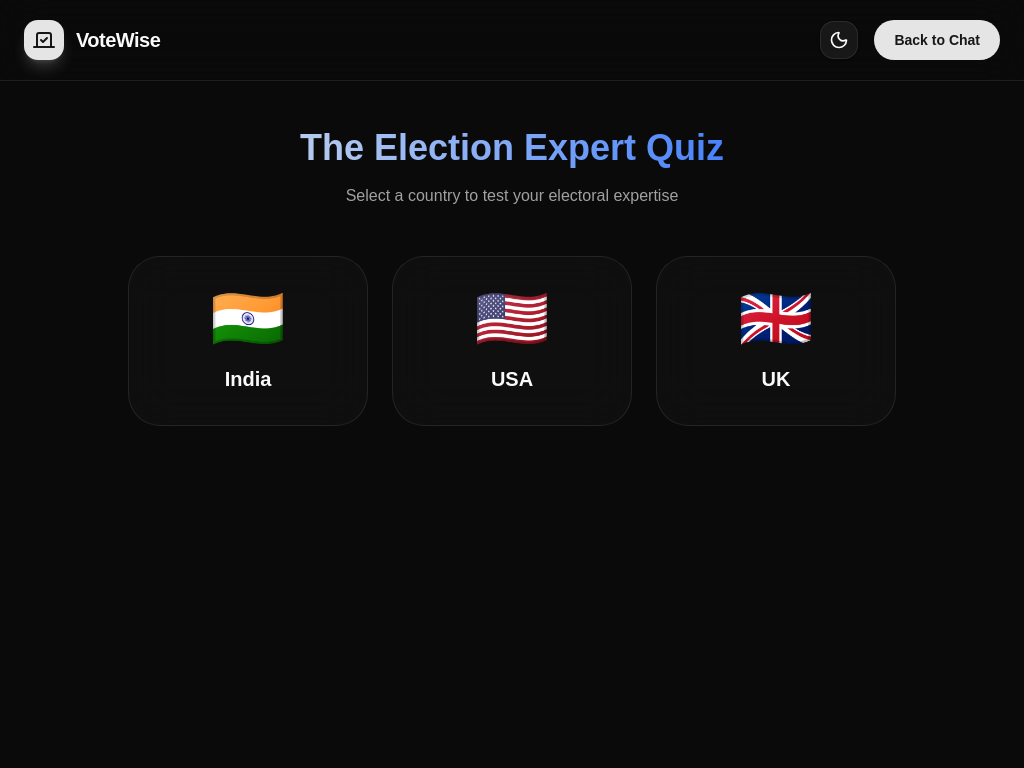
it: QuizPage › starts quiz when country is selected
Click the button "🇮🇳 India": (248, 341) [128,256,368,426]
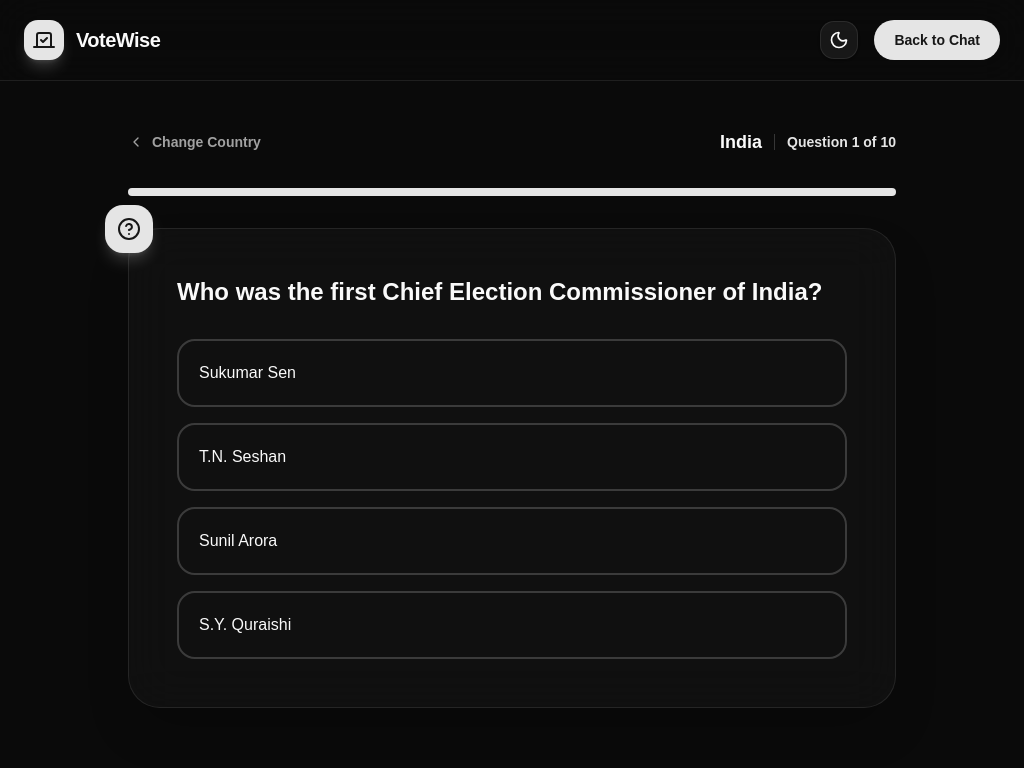
expect the text "Question 1 of 10" is shown: met, box [787,132,896,152]
expect the heading "Who was the first Chief Election Commissioner of India?" is shown: met, box [177,277,847,307]
